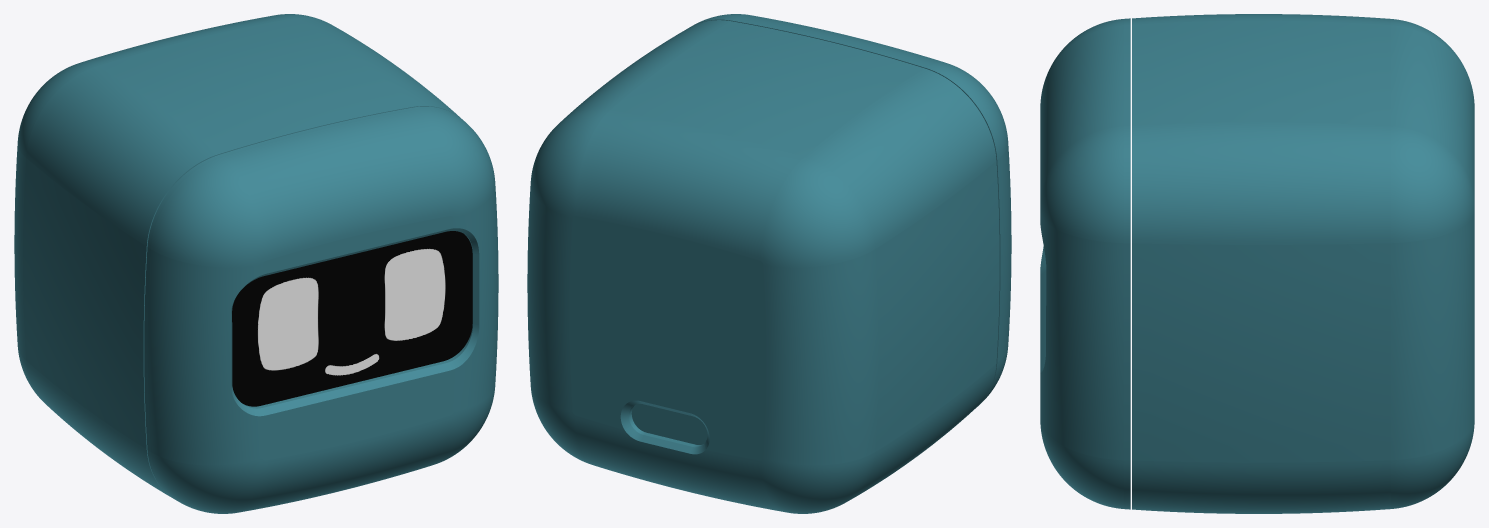
The model's file is chotu.glb.
The picture shows the model from 3 angles, left to right: view 1: azimuth 30°, elevation 25°; view 2: azimuth 150°, elevation 25°; view 3: azimuth 270°, elevation 25°; orthographic projection. The views are drawn at different scales.
Visible parts, largest first — view 1: Simple Assembly 2; view 2: Simple Assembly 2; view 3: Simple Assembly 2.
Part boxes in pixels (x1,y1,x2,y2): Simple Assembly 2: (14,14,498,513); Simple Assembly 2: (527,14,1011,513); Simple Assembly 2: (1040,14,1474,513).
Size of the model in its own units: 47.99 by 47.99 by 48.16.
Materials: 2 (1 with a texture image).
